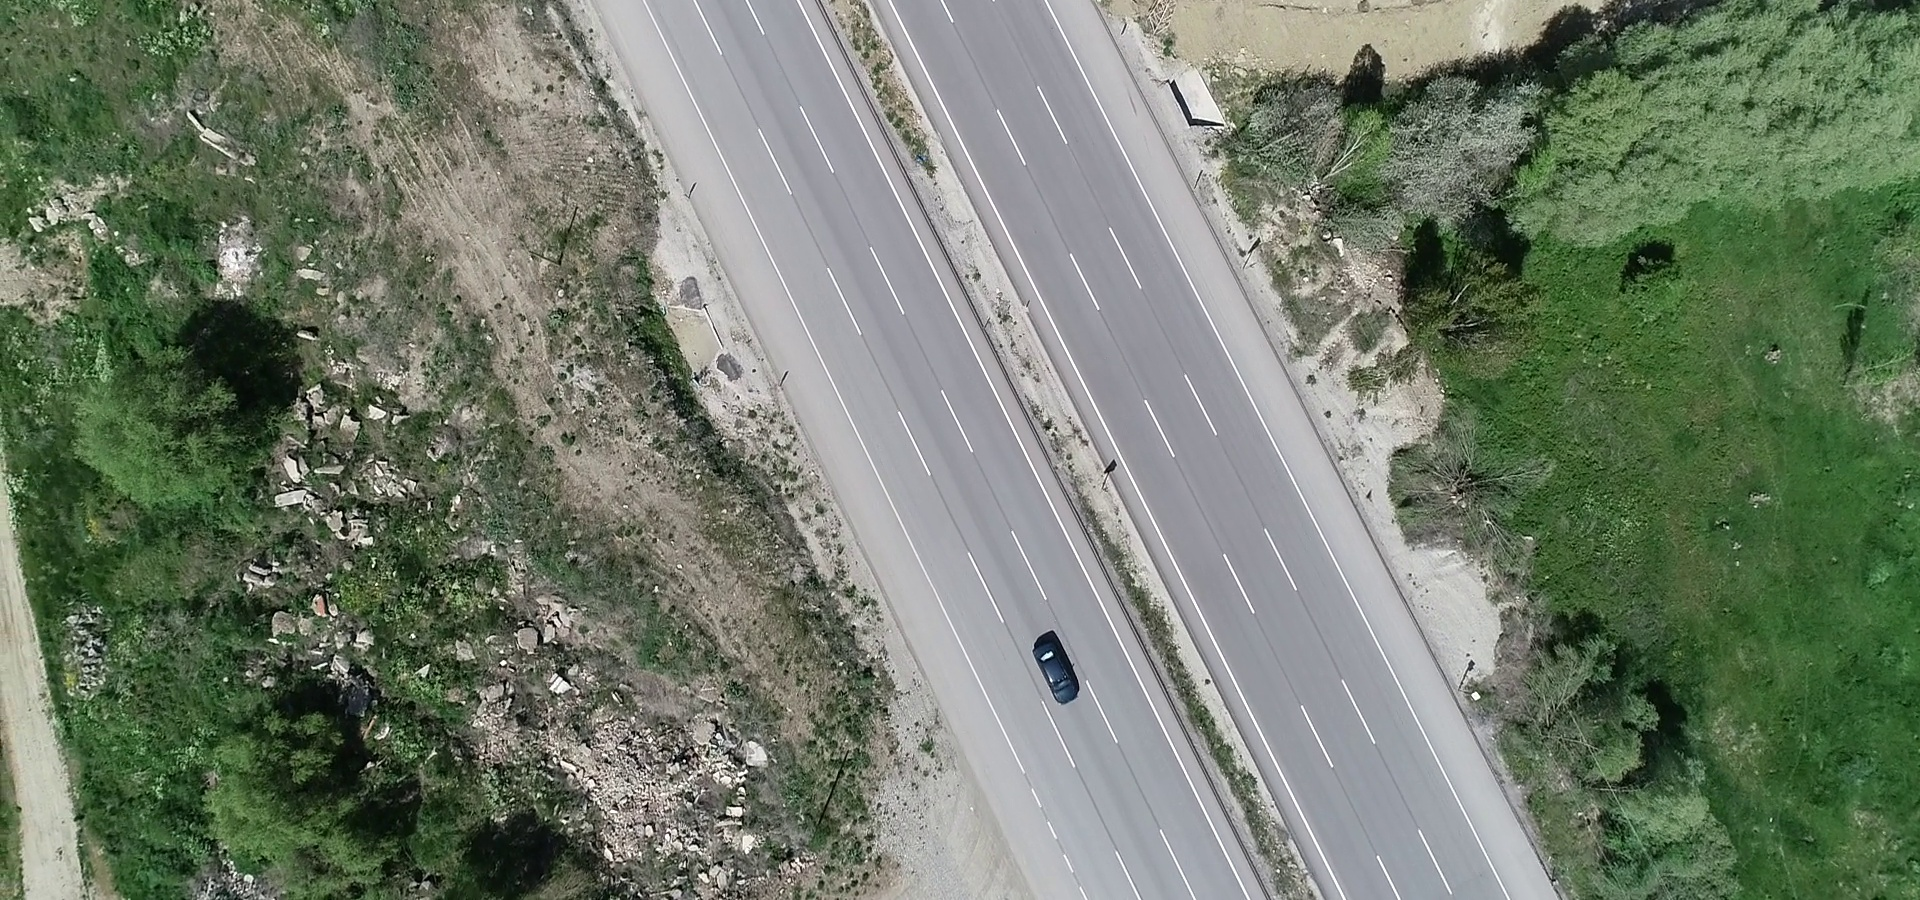arac: (1002, 633, 1098, 705)
